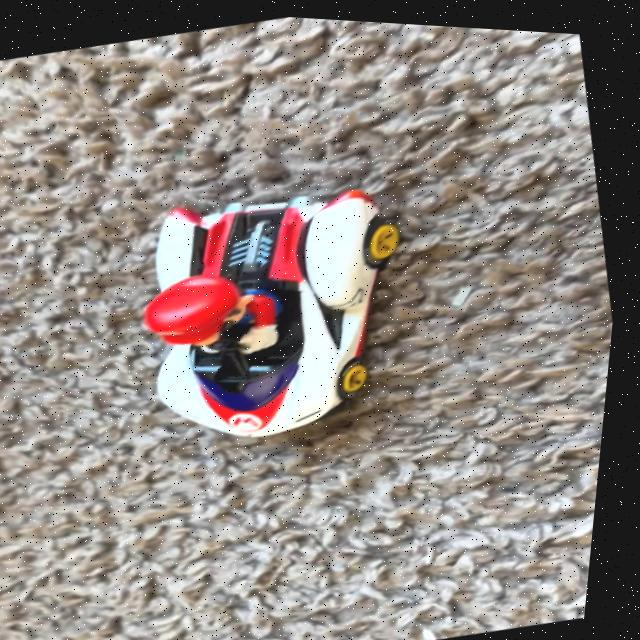mario: (96, 155, 460, 478)
